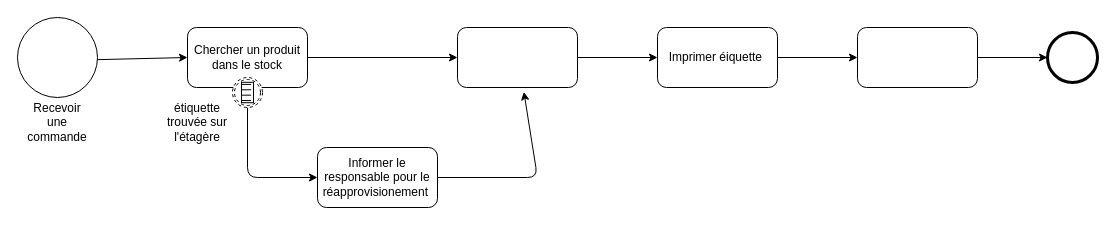
The diagram is 1115 pixels wide and 225 high, and some of its shapes have lost their labels. The shapes that lost their labels are listed below. From the top down, each one's centre as x and y in pixels, then its label:
point (517, 57): Placer dans le carton
point (917, 57): Mettre dans la zone à expédier
